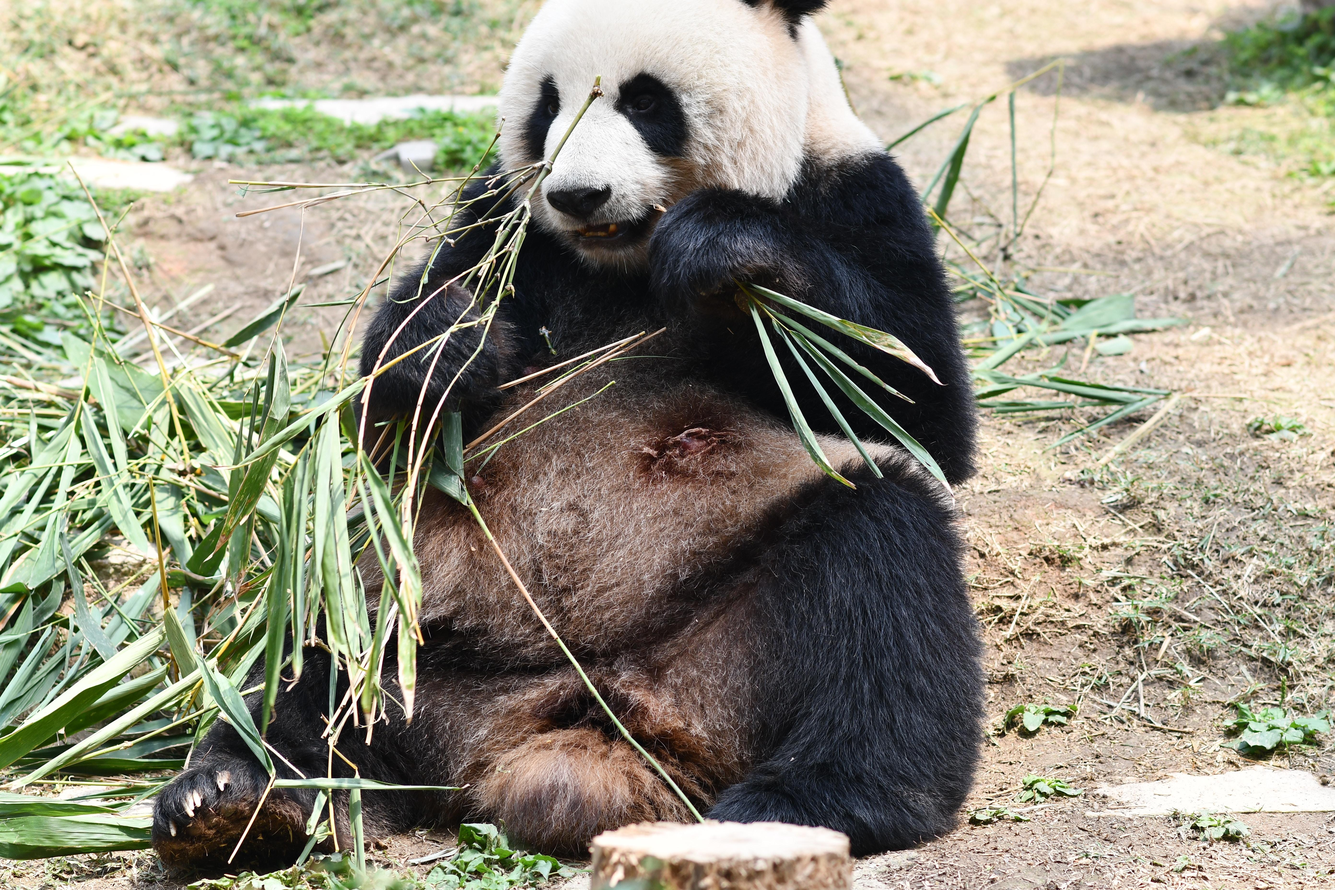panda: (152, 0, 978, 861)
